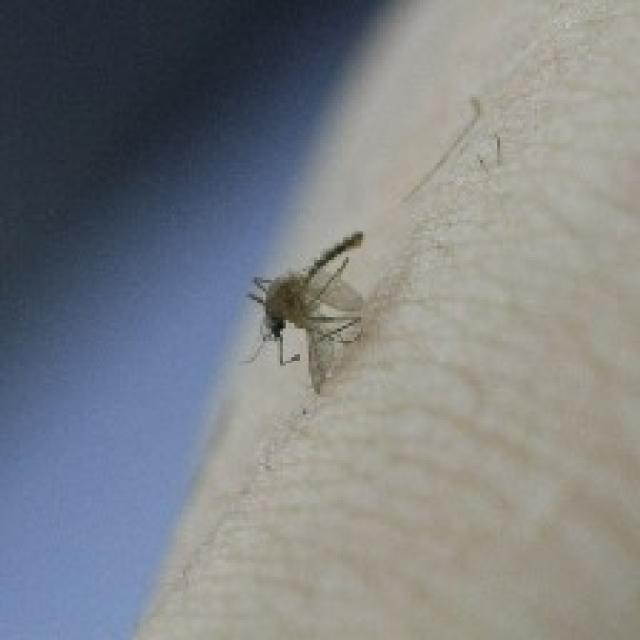culex: (237, 229, 366, 394)
